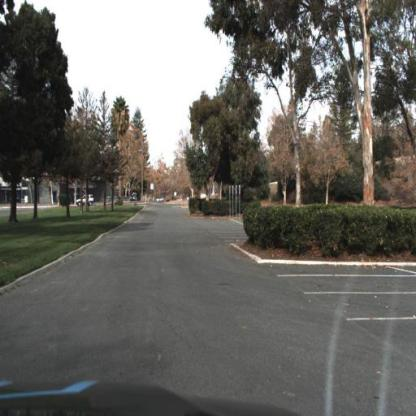car: (73, 190, 97, 211)
